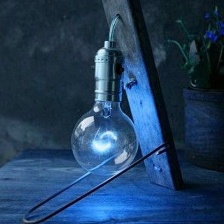light_bulb: (65, 33, 142, 179)
